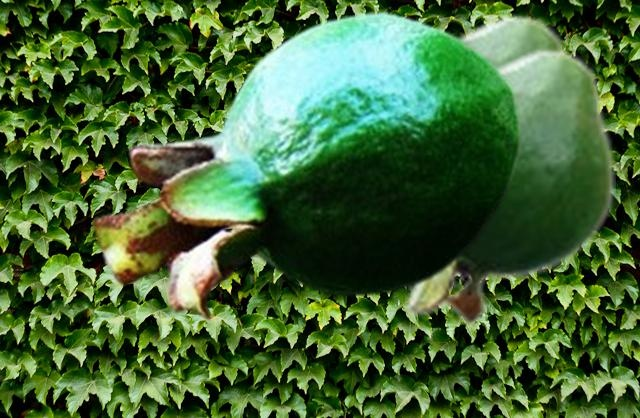guava: (91, 9, 522, 320), (405, 46, 614, 328), (454, 12, 572, 279)
